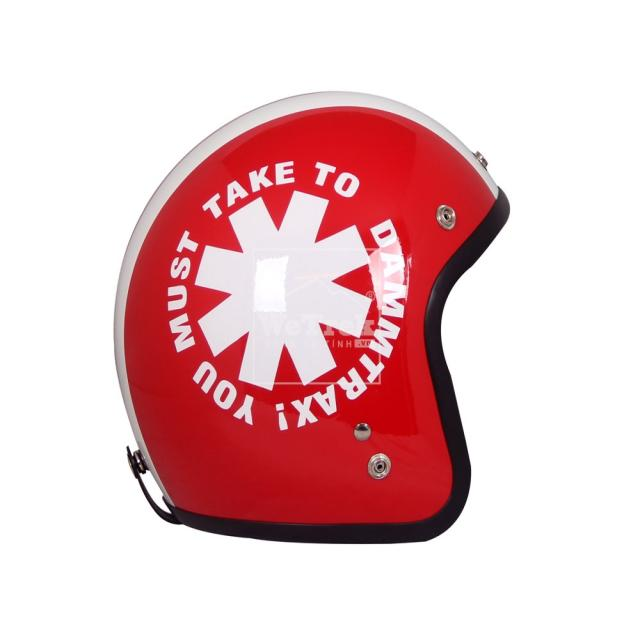Helmet: (111, 88, 512, 545)
